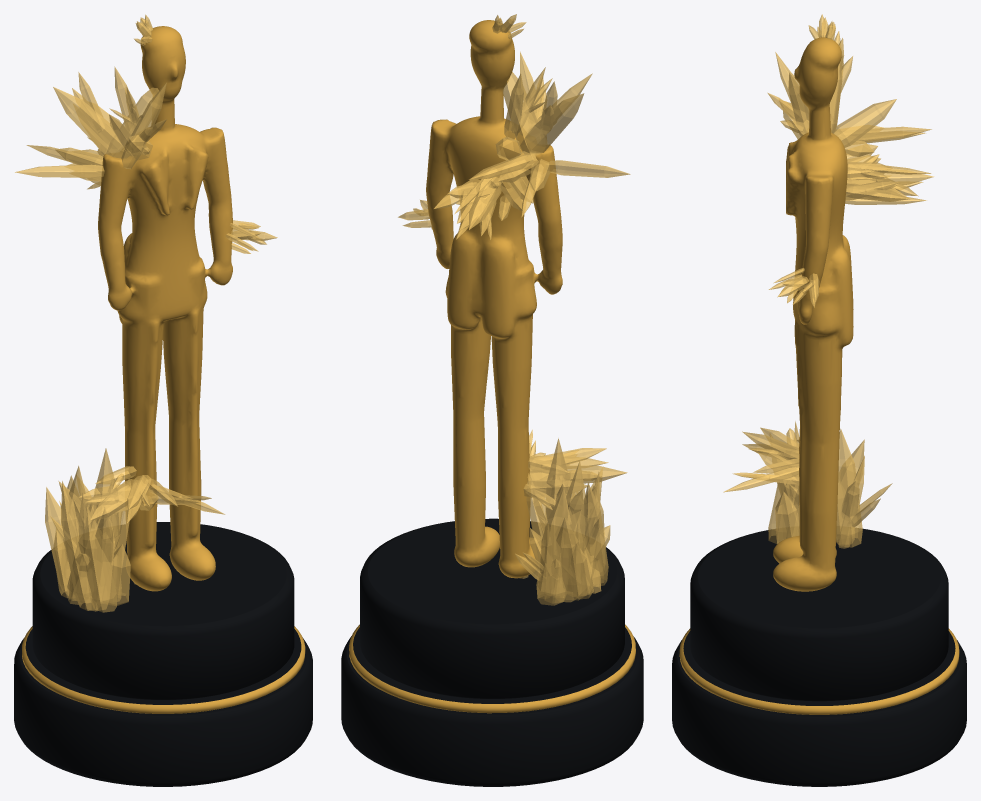
The model's file is avatar_gentleman_stand.glb.
3 renders of one model, left to right at view 1: azimuth 30°, elevation 25°; view 2: azimuth 150°, elevation 25°; view 3: azimuth 270°, elevation 25°, orthographic. The views are drawn at different scales.
Visible parts, largest first — view 1: Pedestal, Gentleman sculpt, Six dense crystal colonies; view 2: Pedestal, Gentleman sculpt, Six dense crystal colonies; view 3: Pedestal, Gentleman sculpt, Six dense crystal colonies.
Boxes of the visible parts, <box> form: Pedestal: <box>14,522,312,786</box>; Gentleman sculpt: <box>98,26,232,591</box>; Six dense crystal colonies: <box>15,14,277,612</box>; Pedestal: <box>341,518,643,786</box>; Gentleman sculpt: <box>426,20,562,578</box>; Six dense crystal colonies: <box>398,14,630,605</box>; Pedestal: <box>672,528,966,786</box>; Gentleman sculpt: <box>773,37,853,591</box>; Six dense crystal colonies: <box>723,14,934,548</box>.
Bounding box in the file's own units: 0.4009 × 1 × 0.3805.
